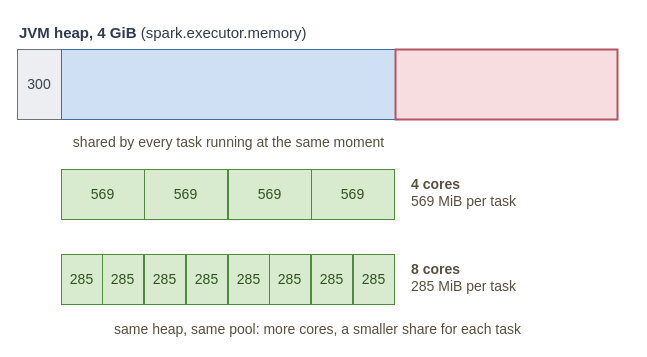
Some shapes in this 647 by 357 pixel diagram are drawn without their labels. The box of each missing label's shape, as (x1, y1, x2, y2) in pixels:
Unified pool (4096 − 300) × 0.6 = 2278 MiB: (60, 48, 396, 120)
User memory 40%, not tracked: (394, 48, 618, 120)
